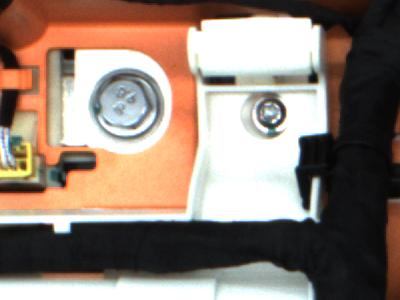nut_b: (87, 59, 172, 145)
screw_m: (250, 93, 294, 139)
